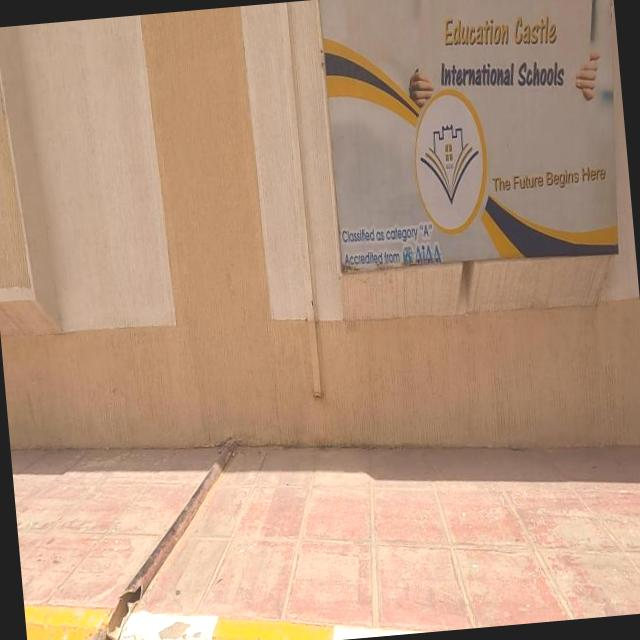debris: (171, 0, 640, 441)
